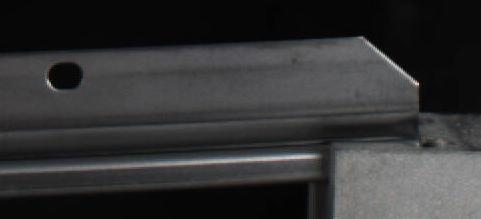cut: (294, 36, 423, 179)
holes: (45, 60, 86, 91)
